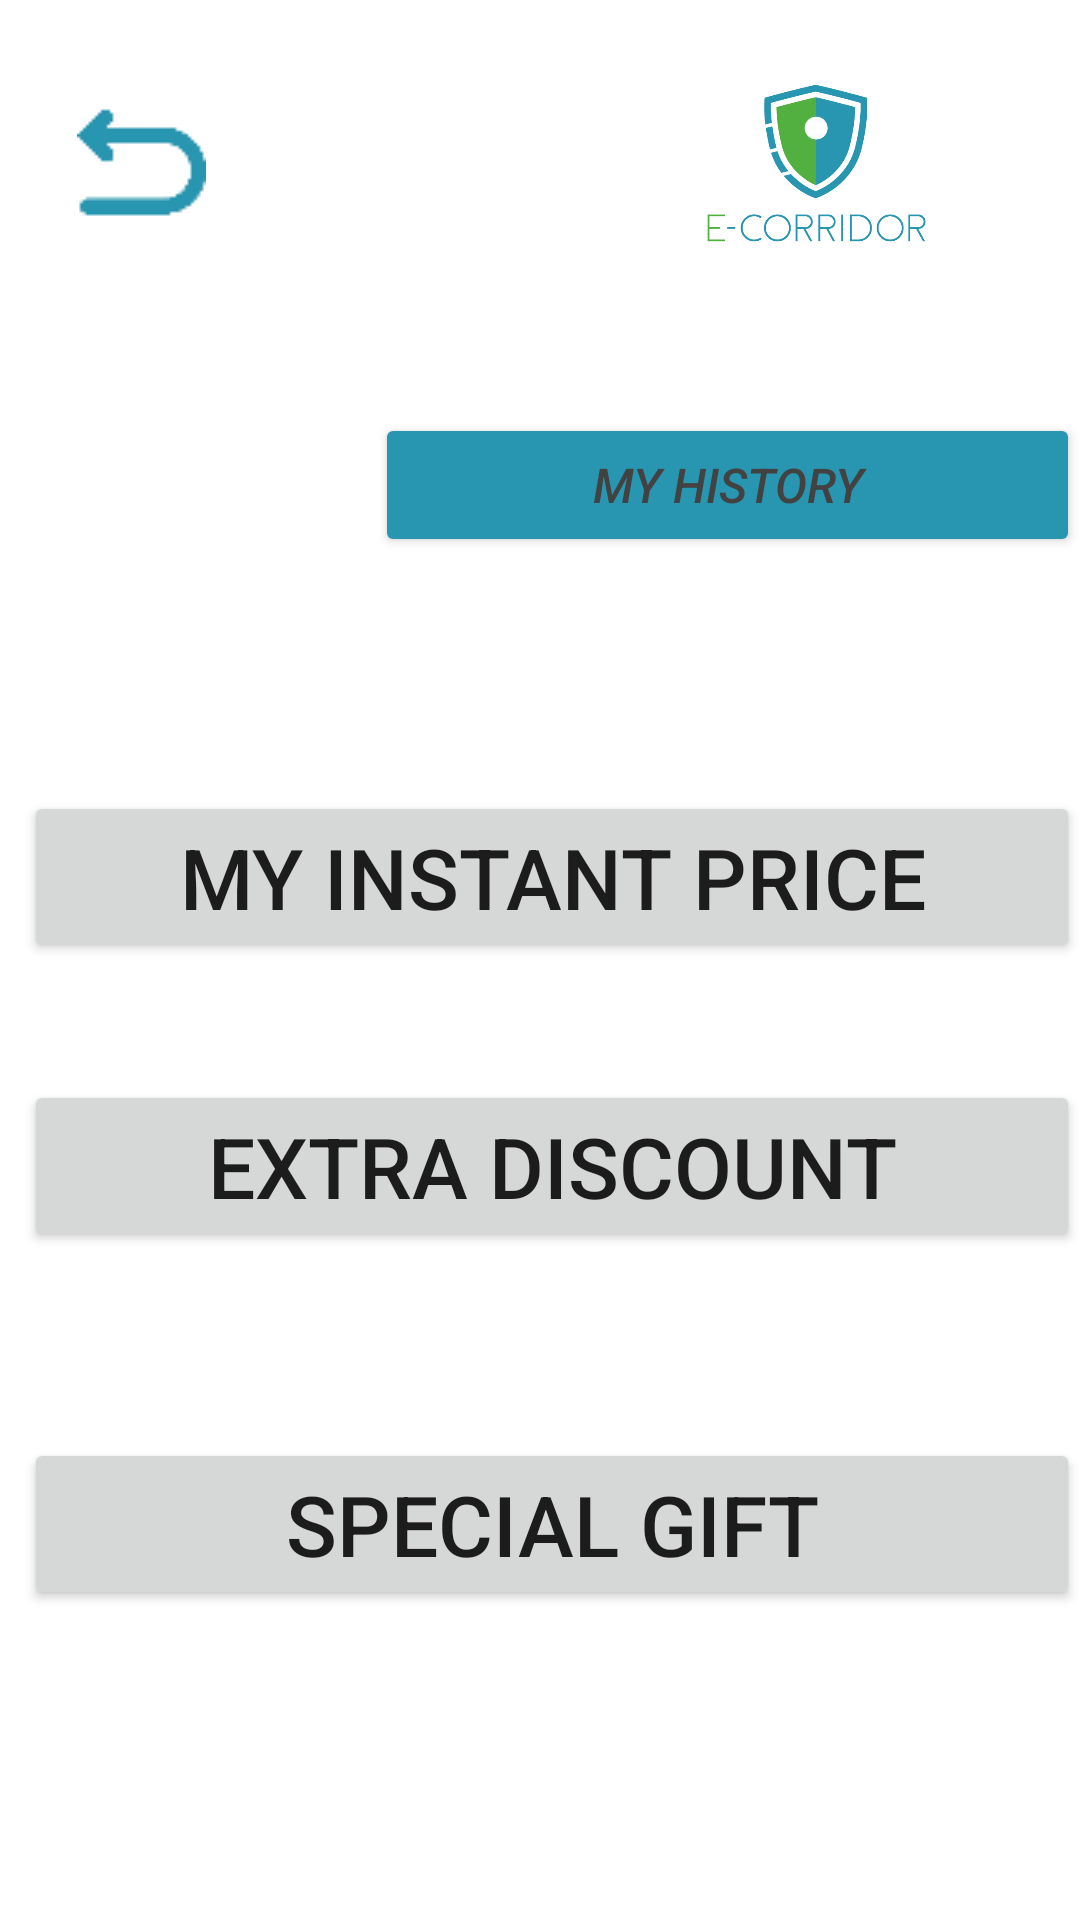

Icon click points for this 1080x1920 phone screenshot, format (x,y):
back: (141,162)
